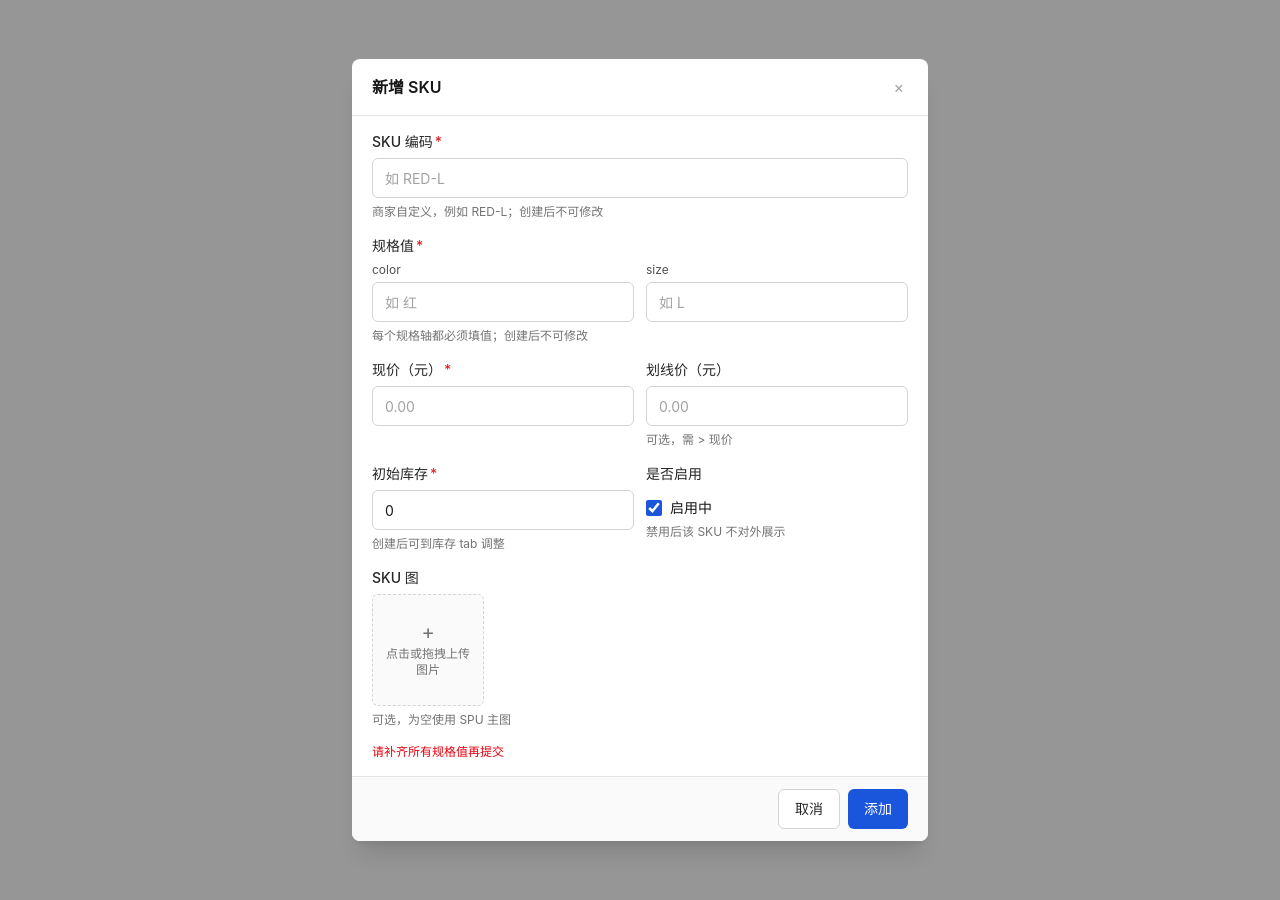
Test: SKUFormModal - 新增 › sku_code 格式非法时报错
The width and height of the screenshot is (1280, 900).
Type "中文 空格" into the field with placeholder "如 RED-L" at (640, 178), box top-left (372, 158), bottom-right (908, 198)
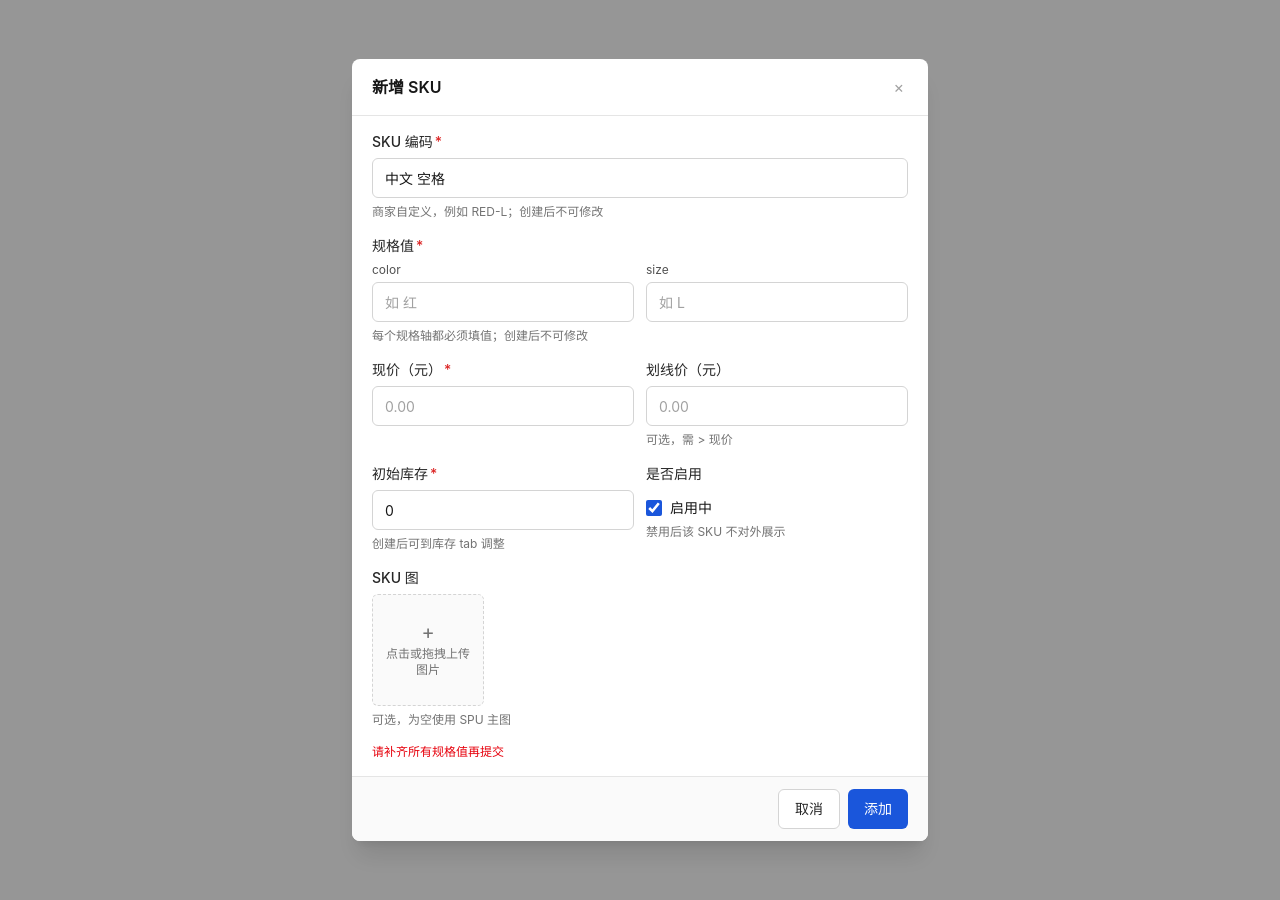
Click the button "添加" at (878, 809), box top-left (848, 789), bottom-right (908, 829)
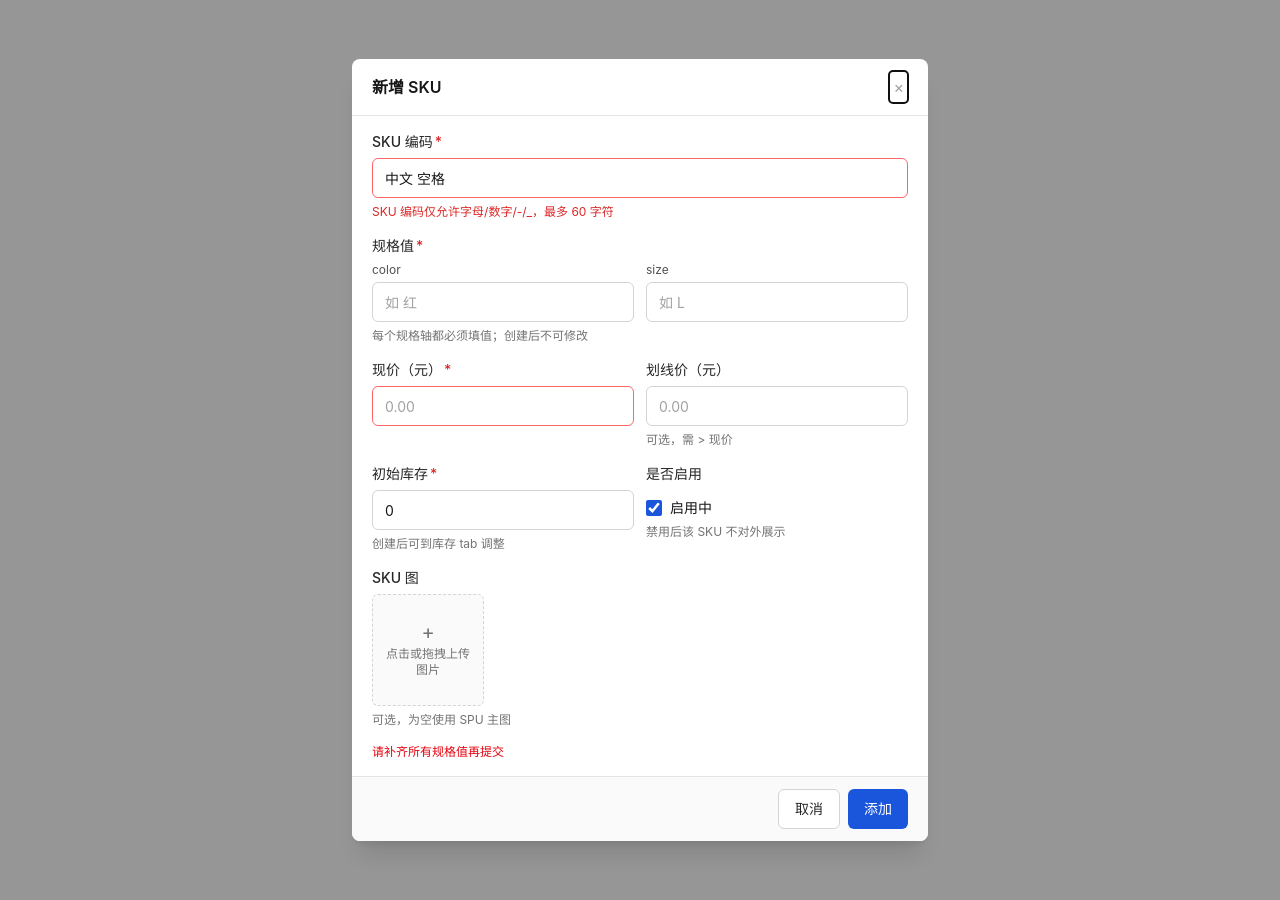
Check: the text "SKU 编码仅允许字母/数字/-/_，最多 60 字符" is shown, box top-left (372, 204), bottom-right (614, 219)
